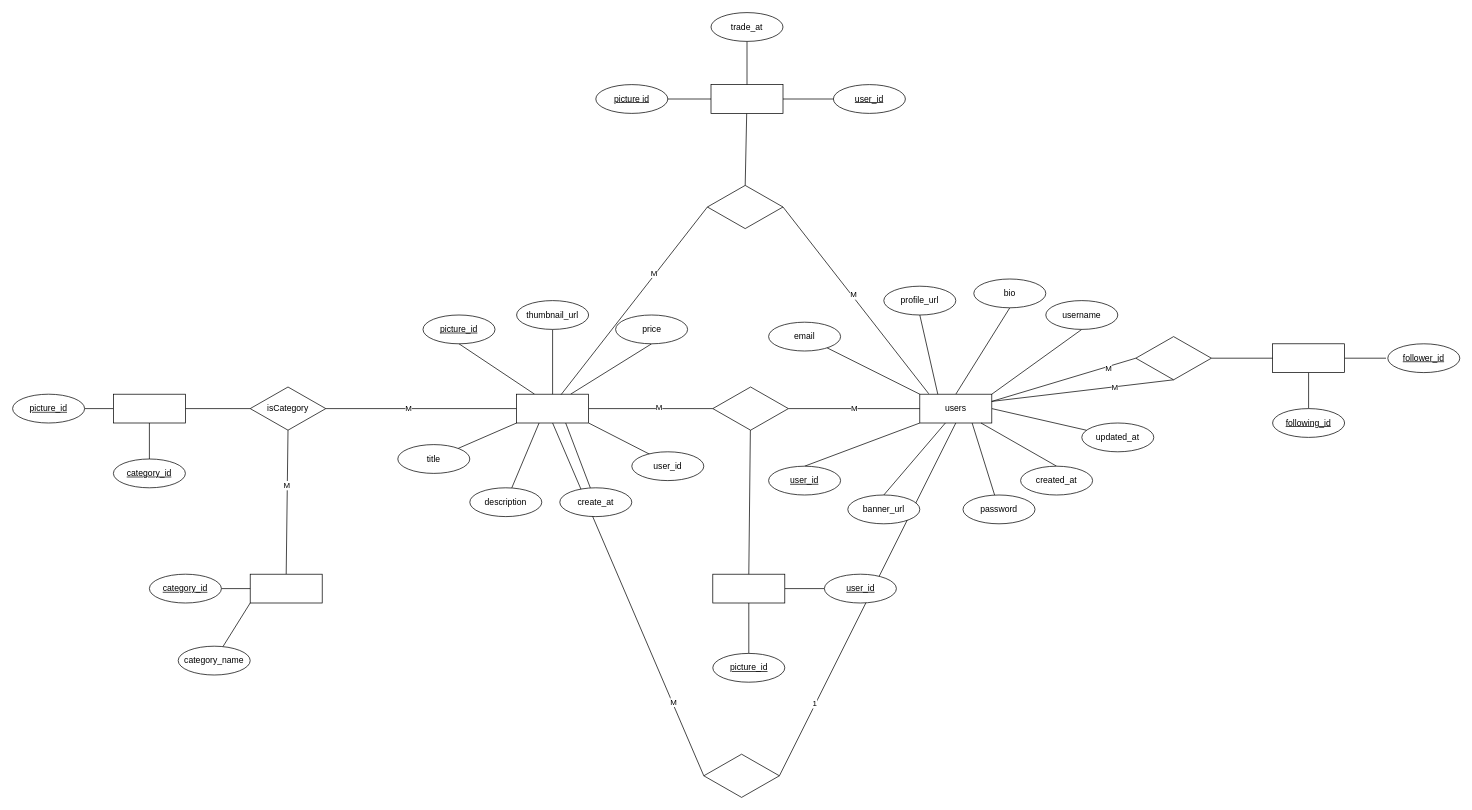
The diagram is 1472 pixels wide and 810 high, and some of its shapes have lost their labels. The shapes that lost their labels are listed below. From the top down, each one's box as (x1, y1, x2, y2) in pixels, then its label:
(710, 84, 783, 113): trade
(707, 185, 783, 229): isTrade
(1135, 336, 1211, 380): isFollow
(1272, 343, 1345, 373): user_followers
(113, 393, 185, 423): picCategory
(516, 393, 589, 423): picture
(712, 386, 788, 430): isLike
(249, 573, 322, 603): category
(712, 573, 785, 603): user_like
(703, 753, 779, 797): create
